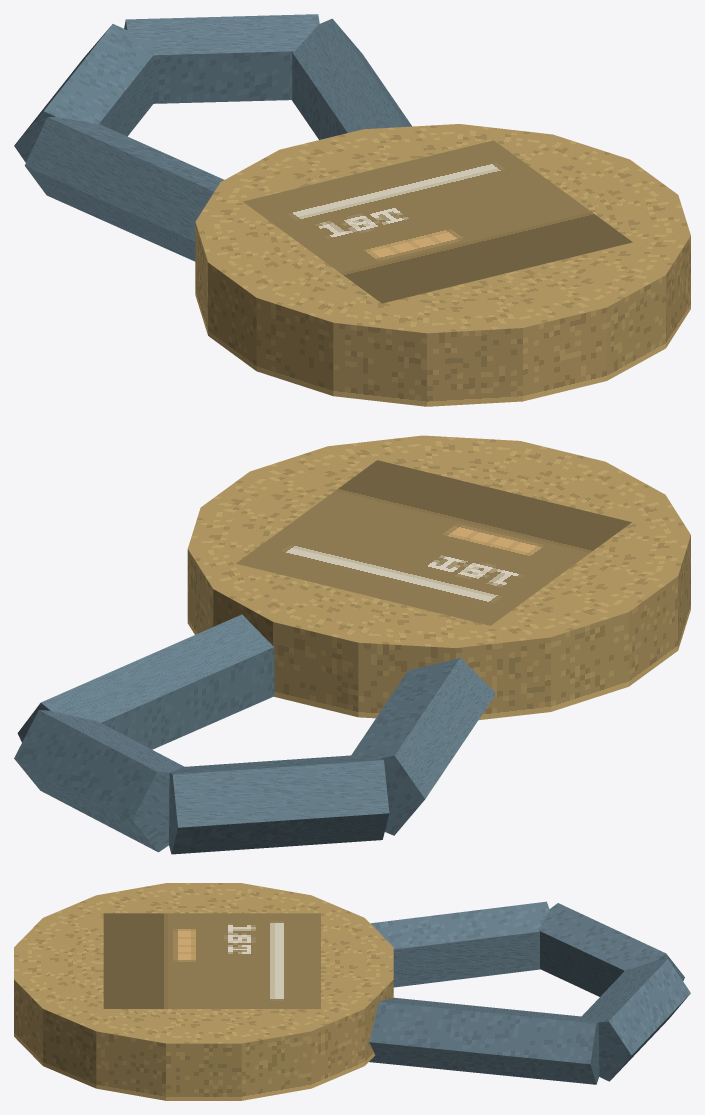
File: gold_medal.glb
3 renders of one model, top to bottom at view 1: azimuth 30°, elevation 25°; view 2: azimuth 150°, elevation 25°; view 3: azimuth 270°, elevation 25°, orthographic. The views are drawn at different scales.
Visible parts, largest first — view 1: block_award medallion, block_award placement, block_flat award ribbon 0, block_flat award ribbon 2, block_flat award ribbon 3, block_flat award ribbon 1; view 2: block_award medallion, block_award placement, block_flat award ribbon 1, block_flat award ribbon 3, block_flat award ribbon 2, block_flat award ribbon 0; view 3: block_award medallion, block_award placement, block_flat award ribbon 3, block_flat award ribbon 0, block_flat award ribbon 2, block_flat award ribbon 1.
Boxes of the visible parts, x1,y1,x2,y2 form: block_award medallion: (195, 124, 690, 406); block_award placement: (243, 140, 632, 303); block_flat award ribbon 0: (24, 117, 223, 261); block_flat award ribbon 2: (124, 14, 319, 103); block_flat award ribbon 3: (292, 18, 412, 139); block_flat award ribbon 1: (14, 24, 153, 162); block_award medallion: (187, 435, 690, 719); block_award placement: (236, 460, 631, 625); block_flat award ribbon 1: (169, 755, 389, 854); block_flat award ribbon 3: (17, 614, 274, 749); block_flat award ribbon 2: (14, 710, 184, 852); block_flat award ribbon 0: (351, 657, 496, 835); block_award medallion: (14, 883, 393, 1100); block_award placement: (103, 913, 320, 1008); block_flat award ribbon 3: (369, 997, 599, 1084); block_flat award ribbon 0: (370, 901, 549, 987); block_flat award ribbon 2: (581, 959, 690, 1081); block_flat award ribbon 1: (539, 903, 684, 996).
Size of the model in its own units: 0.0456 by 0.00947 by 0.0813.
Materials: 1 (1 with a texture image).
